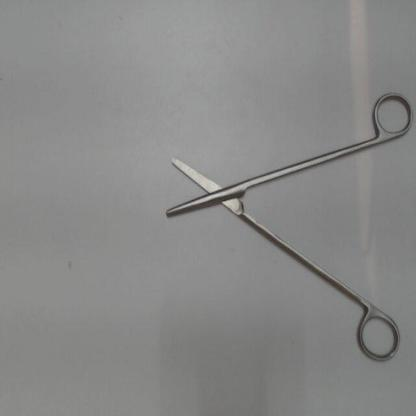9 Metzenbaum Scissors: (165, 83, 414, 369)
